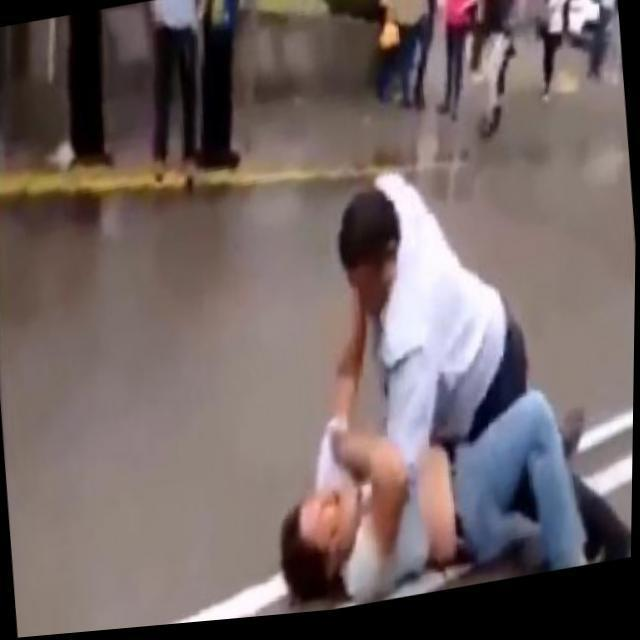fight: (239, 129, 638, 623)
